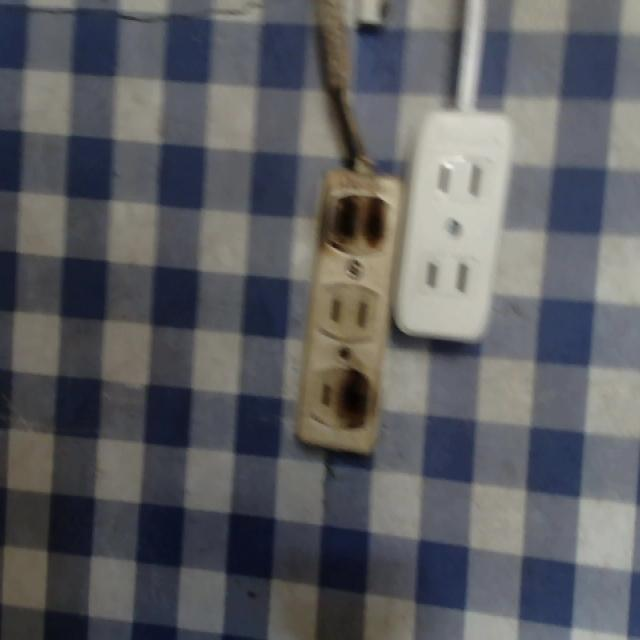-: (326, 189, 392, 263), (335, 368, 371, 428)
